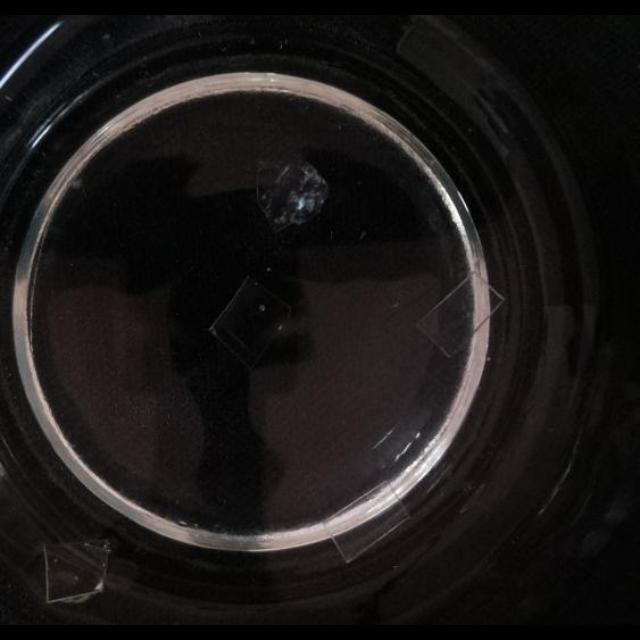Film: (207, 273, 297, 371), (414, 274, 504, 360), (330, 480, 412, 564), (40, 539, 110, 605)
Fragment: (254, 156, 332, 232)
